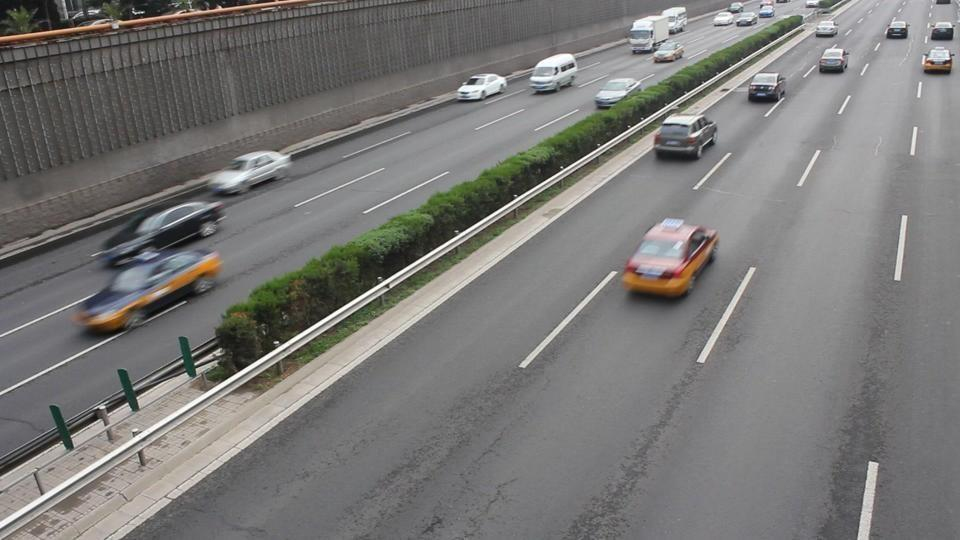car: (70, 247, 222, 335), (93, 200, 226, 270), (621, 217, 720, 299), (207, 150, 293, 197), (653, 111, 718, 161), (529, 53, 577, 94), (594, 77, 641, 110), (456, 73, 506, 102), (747, 72, 787, 102), (921, 47, 954, 75), (818, 46, 849, 73), (885, 19, 909, 39), (815, 17, 837, 38)
